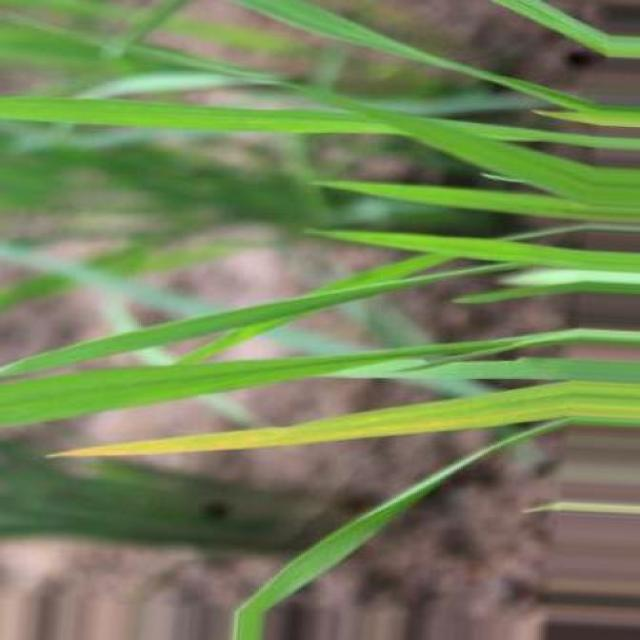Rice Tungro: (58, 381, 639, 456)
